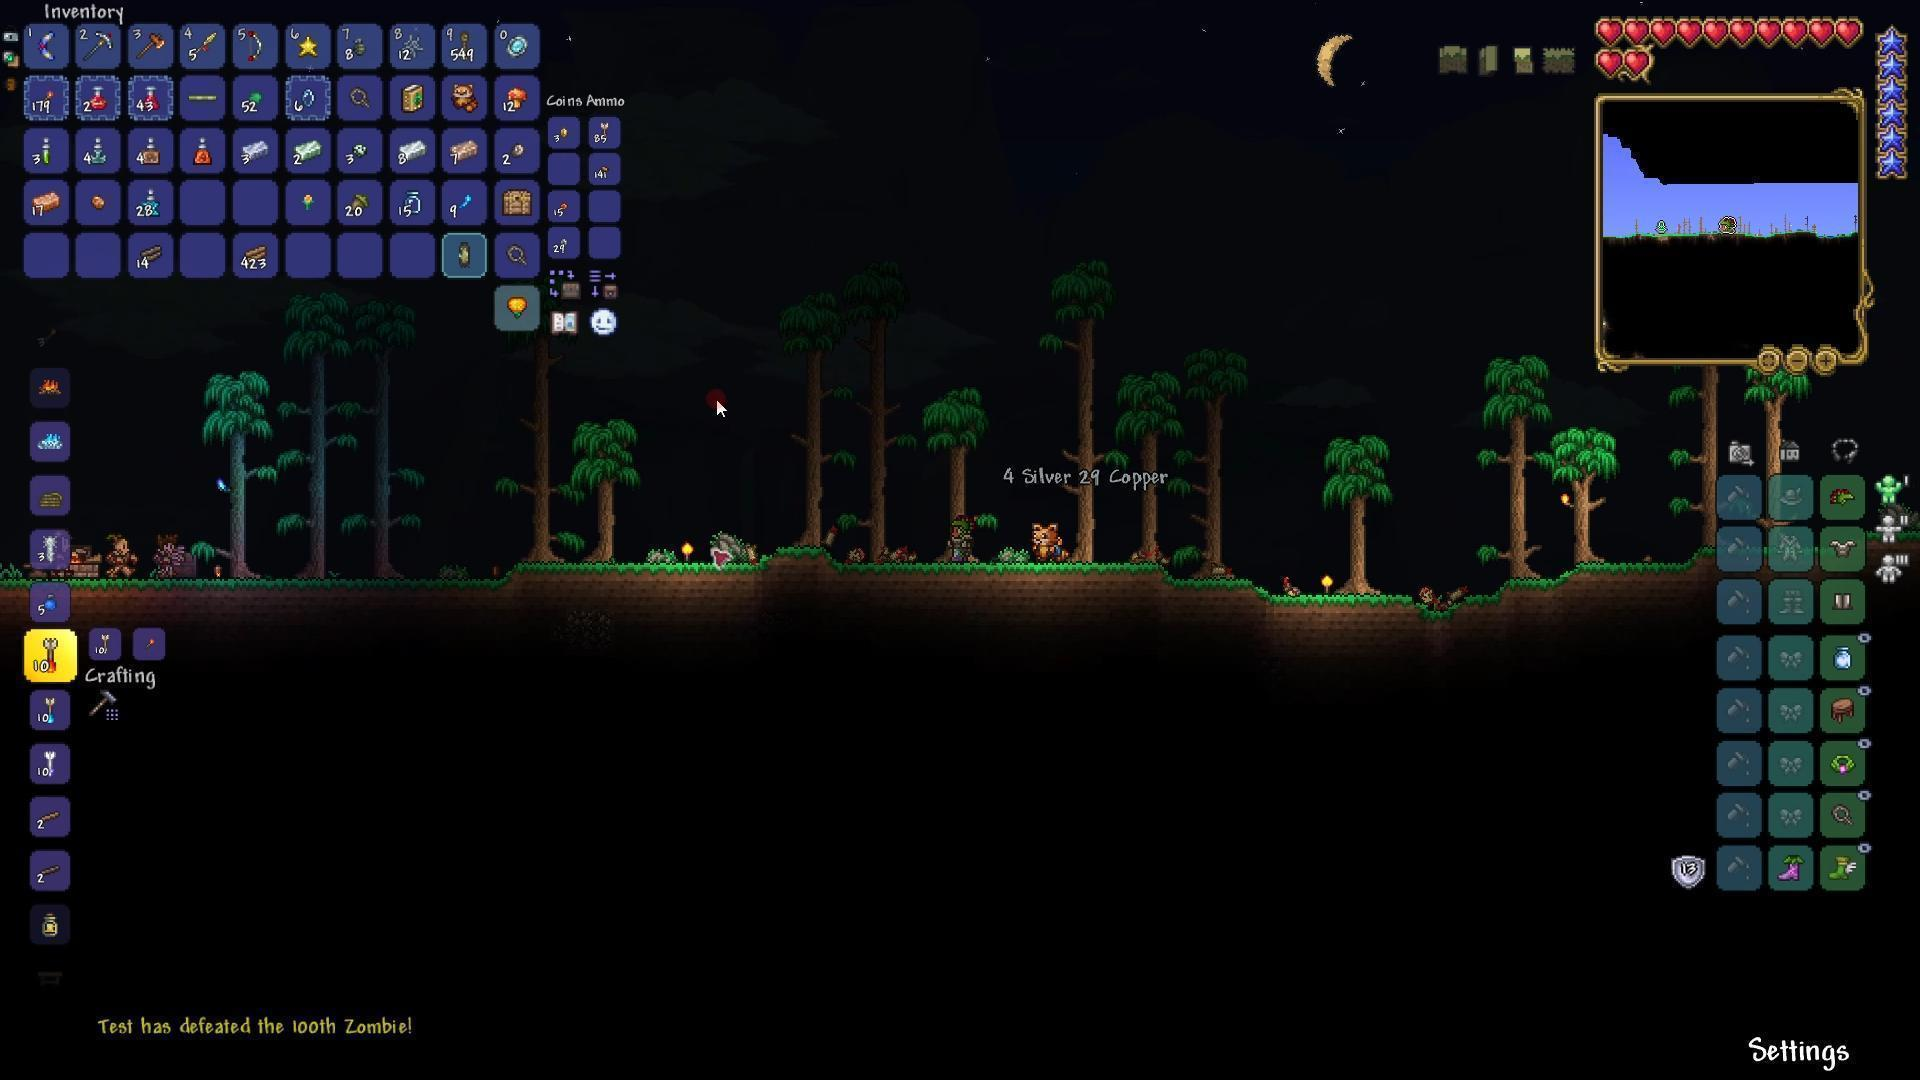arrow: (37, 632, 70, 675), (38, 744, 62, 779), (41, 696, 57, 723)
bar: (29, 189, 61, 215), (240, 135, 269, 161), (396, 137, 426, 162), (447, 137, 476, 162), (295, 135, 320, 160)
breastplate: (1829, 538, 1858, 559)
chest: (500, 185, 531, 220)
cobwebI: (400, 33, 425, 61)
gel: (247, 87, 265, 112)
grenade: (349, 36, 373, 61)
legs: (1829, 589, 1858, 615)
lens: (298, 86, 316, 109)
ore: (349, 135, 375, 164), (90, 191, 109, 214), (512, 140, 529, 161)
zombie: (95, 524, 150, 583), (148, 525, 200, 587)
